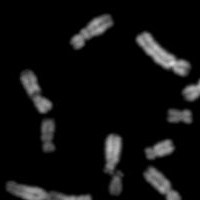chromosome: (135, 30, 190, 75), (4, 179, 93, 200), (17, 67, 52, 114), (71, 12, 113, 49), (142, 166, 181, 200), (182, 58, 200, 103), (102, 133, 121, 175), (143, 140, 176, 159), (165, 106, 192, 126), (40, 118, 55, 153), (107, 171, 124, 196)
